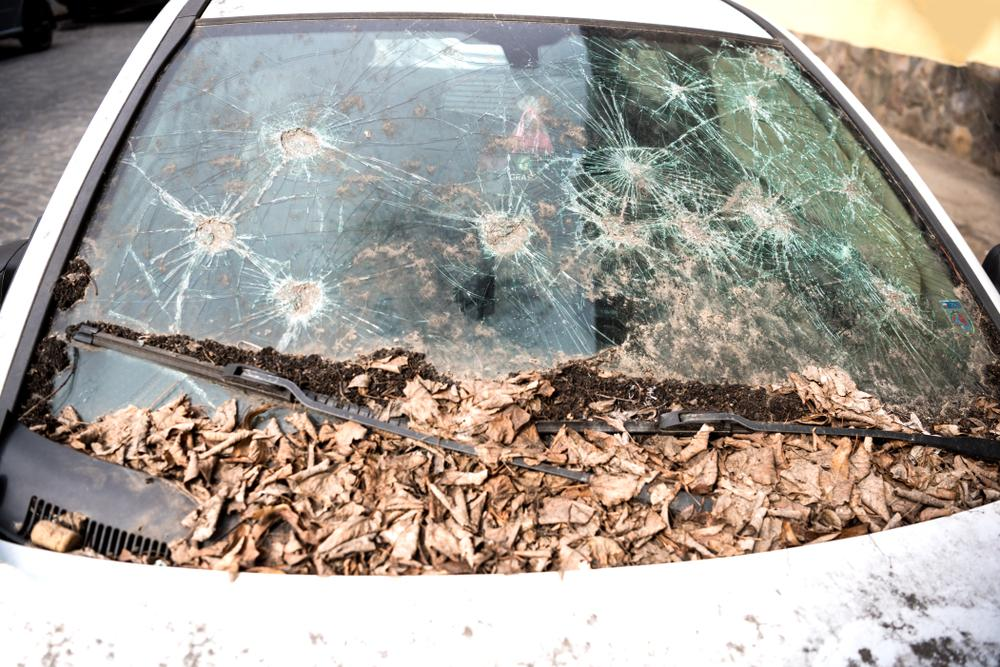glass shatter: (37, 19, 1000, 406)
